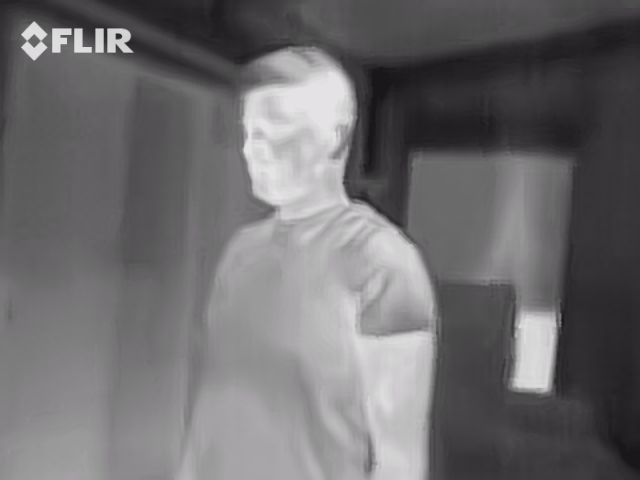head: (237, 44, 358, 207)
